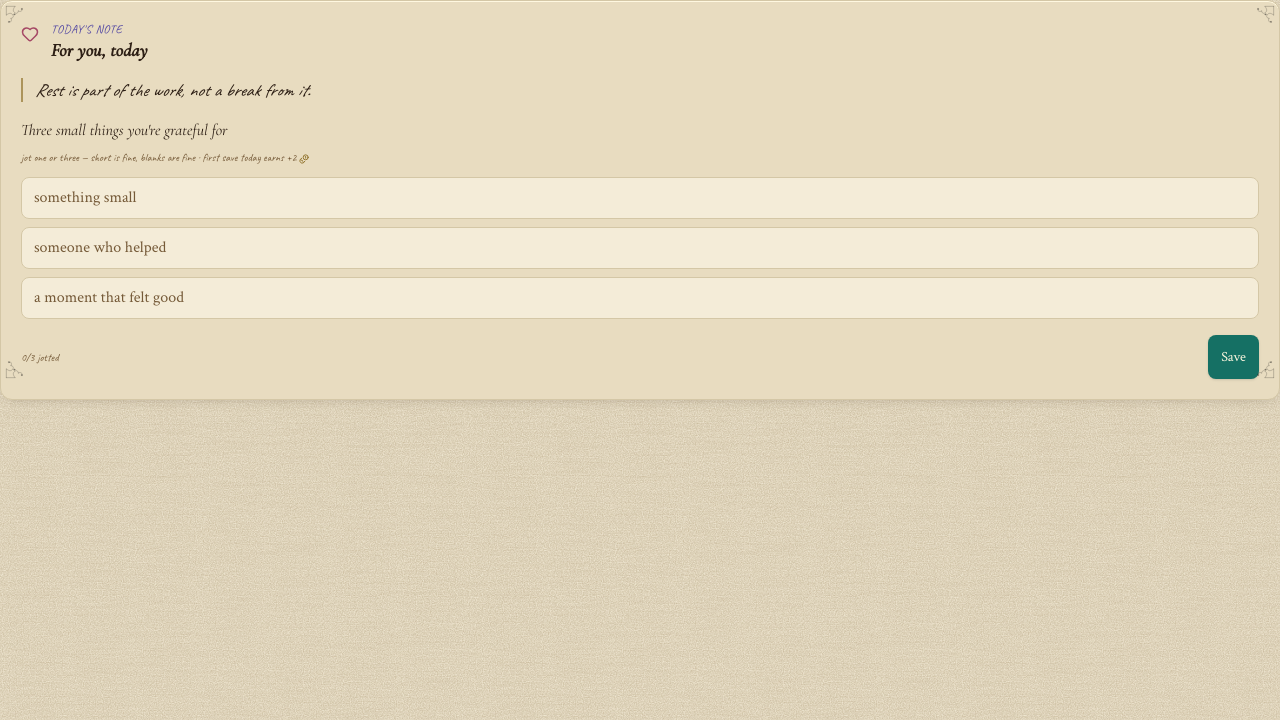
Scenario: WellbeingCard › shows an error toast when no lines are written
Expected: the text "Rest is part of the work, not a break from it." is shown, [21, 78, 1259, 102]
Step 1. Click the button "Save" → (1234,357), box [1208, 335, 1259, 379]
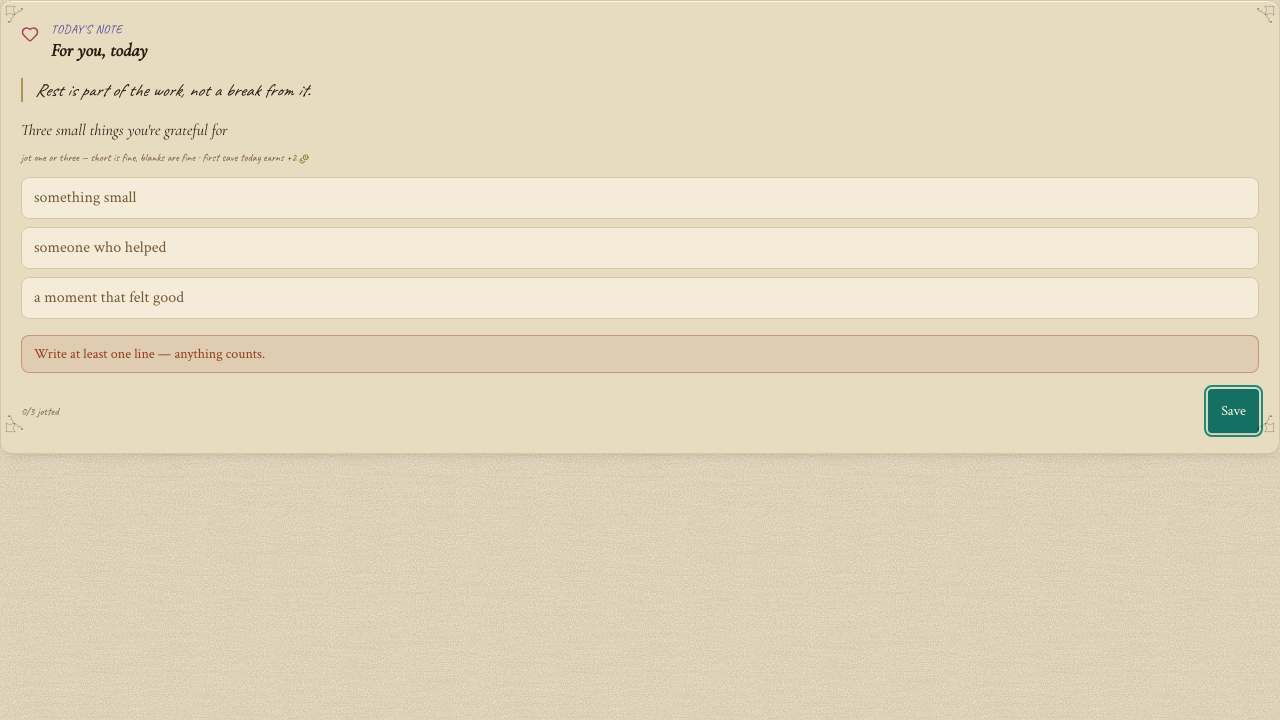
Expected: the text "Write at least one line — anything counts." is shown, [34, 345, 265, 363]
